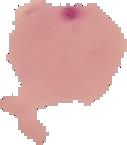parasitized: (51, 4, 107, 38)
